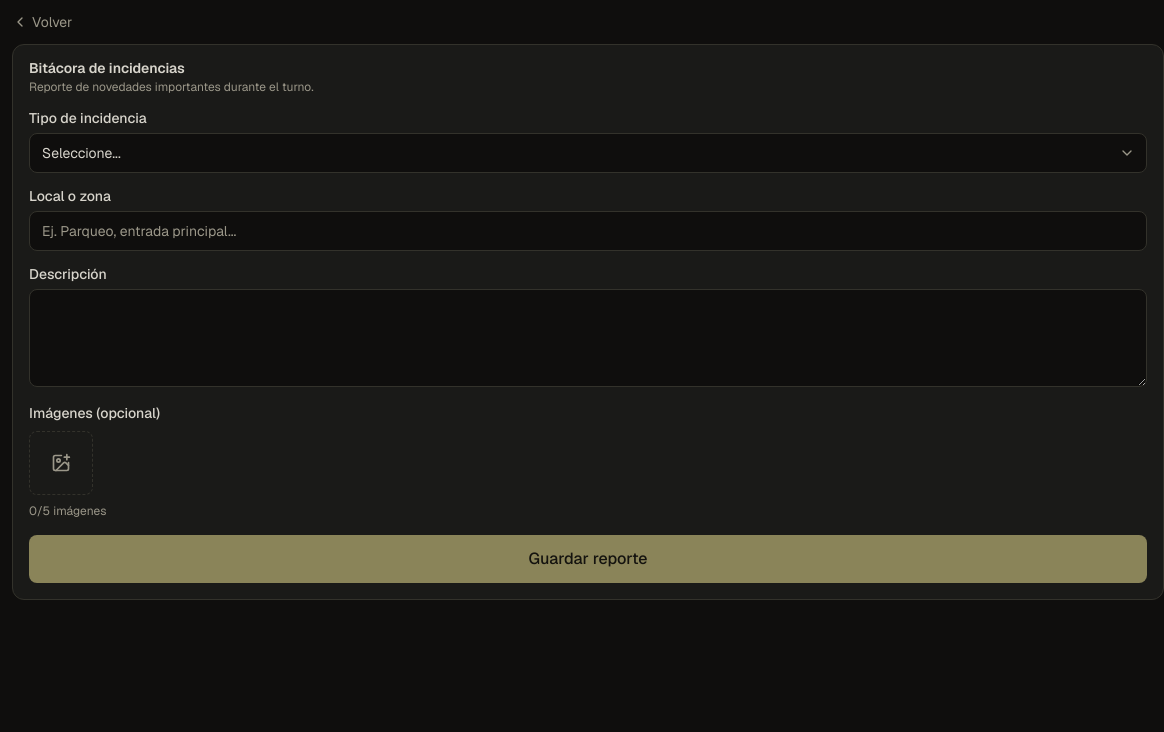
IncidentLogForm › oculta el campo de detalle al cambiar a otro tipo distinto de Otro
The width and height of the screenshot is (1164, 732).
Select "Otro" in the dropdown labelled "Tipo de incidencia": (588, 153) [29,133,1147,173]
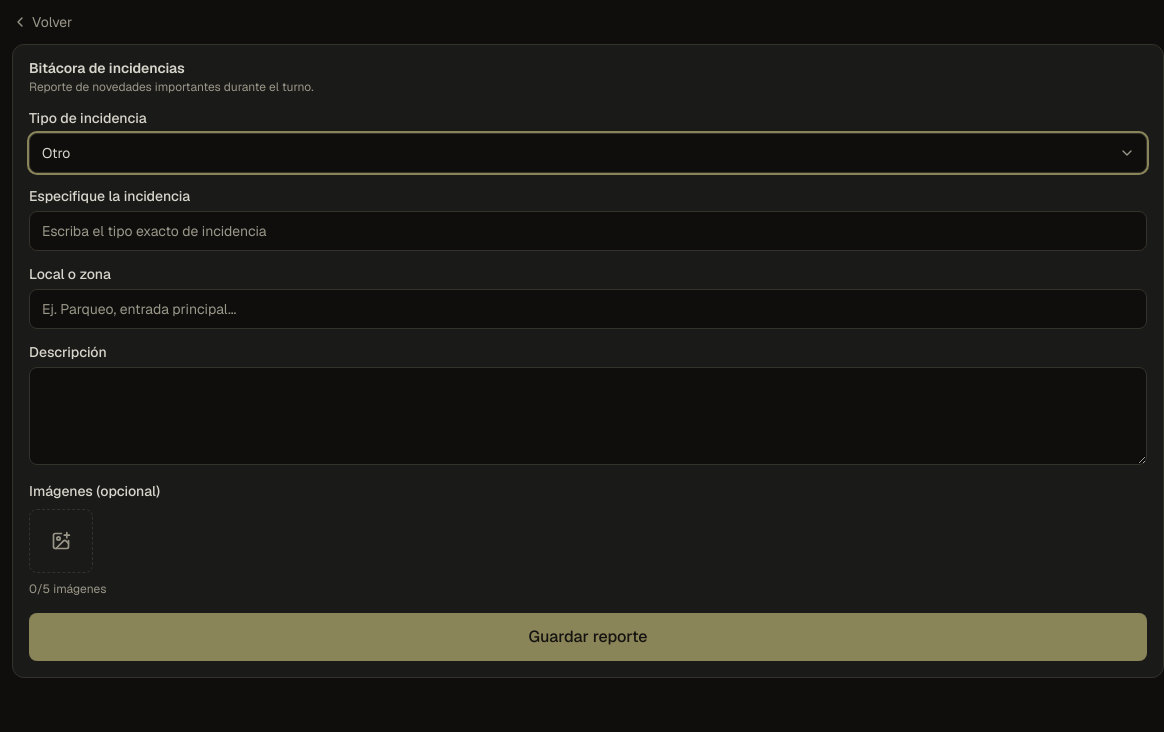
Result: the field labelled "Especifique la incidencia" is shown at [29,211,1147,251]
Select "Accidente" in the dropdown labelled "Tipo de incidencia": (588, 153) [29,133,1147,173]
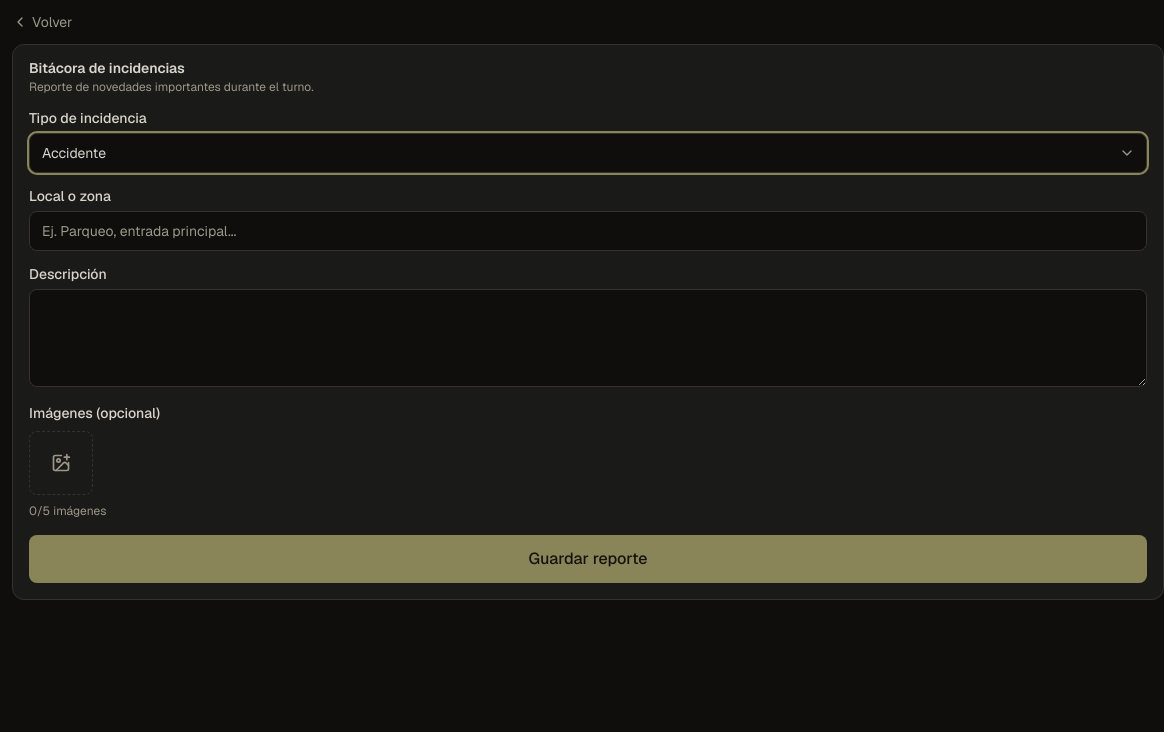
Result: the label labelled "Especifique la incidencia" is gone
